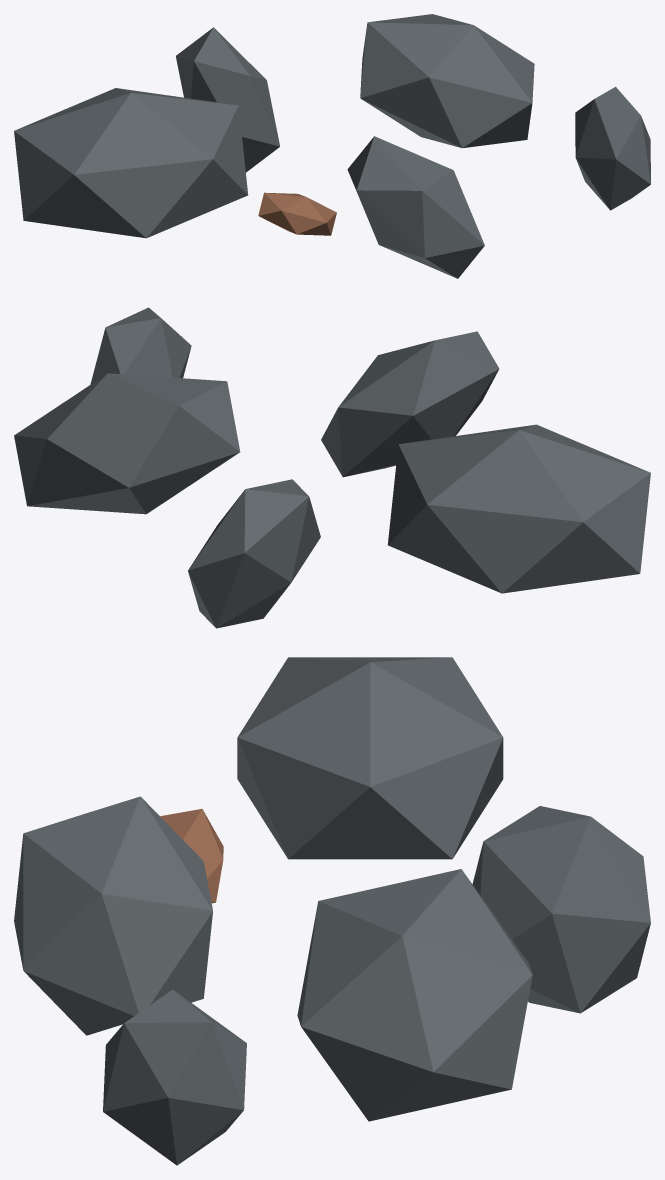
The model's file is iron_node_depleted.glb.
3 renders of one model, top to bottom at view 1: azimuth 30°, elevation 25°; view 2: azimuth 150°, elevation 25°; view 3: azimuth 270°, elevation 25°, orthographic. The views are drawn at different scales.
Parts seen in each view (by area): view 1: Rubble_1.001, Rubble_2.001, Rubble_3.001, Rubble_5.001, Rubble_4.001, Spent_Iron_Fleck; view 2: Rubble_1.001, Rubble_2.001, Rubble_3.001, Rubble_4.001, Rubble_5.001; view 3: Rubble_1.001, Rubble_2.001, Rubble_3.001, Rubble_4.001, Rubble_5.001, Spent_Iron_Fleck.
Part boxes in pixels (<box>): Rubble_1.001: <box>14,88,248,238</box>; Rubble_2.001: <box>360,14,534,148</box>; Rubble_3.001: <box>347,136,484,278</box>; Rubble_5.001: <box>575,86,650,210</box>; Rubble_4.001: <box>176,27,279,172</box>; Spent_Iron_Fleck: <box>258,192,336,235</box>; Rubble_1.001: <box>387,424,650,593</box>; Rubble_2.001: <box>14,373,240,514</box>; Rubble_3.001: <box>321,331,499,477</box>; Rubble_4.001: <box>188,479,320,628</box>; Rubble_5.001: <box>90,307,191,384</box>; Rubble_1.001: <box>237,657,503,859</box>; Rubble_2.001: <box>297,869,532,1121</box>; Rubble_3.001: <box>14,796,212,1035</box>; Rubble_4.001: <box>472,806,650,1013</box>; Rubble_5.001: <box>103,989,246,1165</box>; Spent_Iron_Fleck: <box>160,809,223,903</box>.
Bounding box in the file's own units: 1.56 × 0.4499 × 1.14.
